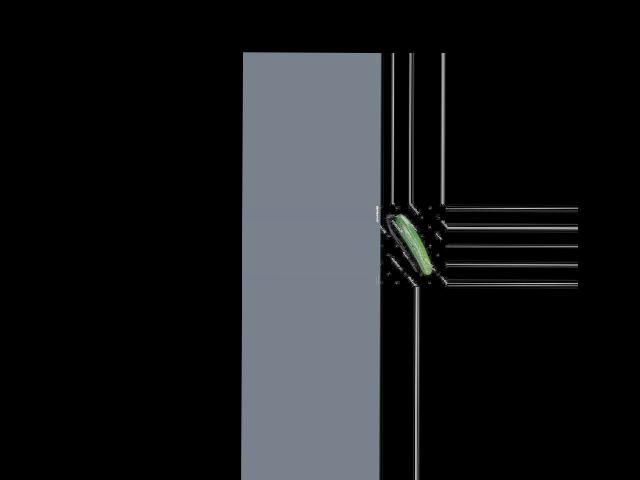cucumber: (393, 214, 432, 275)
